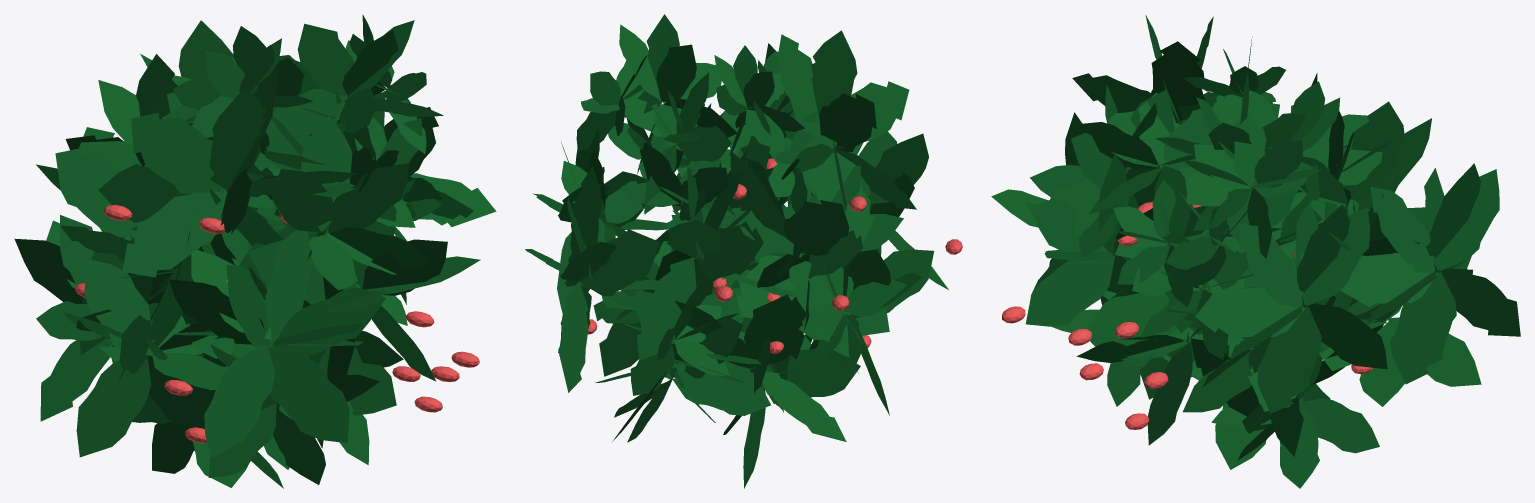
File: berry_bush.glb
3 views of the same model, side by side, from view 1: azimuth 30°, elevation 25°; view 2: azimuth 150°, elevation 25°; view 3: azimuth 270°, elevation 25° (orthographic). The views are drawn at different scales.
Parts seen in each view (by area): view 1: leaves, berries; view 2: leaves, berries; view 3: leaves, berries.
Part boxes in pixels (bbox=[...]): leaves: bbox=[14, 14, 496, 488]; berries: bbox=[75, 204, 479, 443]; leaves: bbox=[525, 14, 948, 488]; berries: bbox=[588, 158, 962, 353]; leaves: bbox=[991, 15, 1520, 488]; berries: bbox=[1002, 202, 1373, 429].
Bounding box in the file's own units: 0.8155 × 0.8194 × 0.935.
